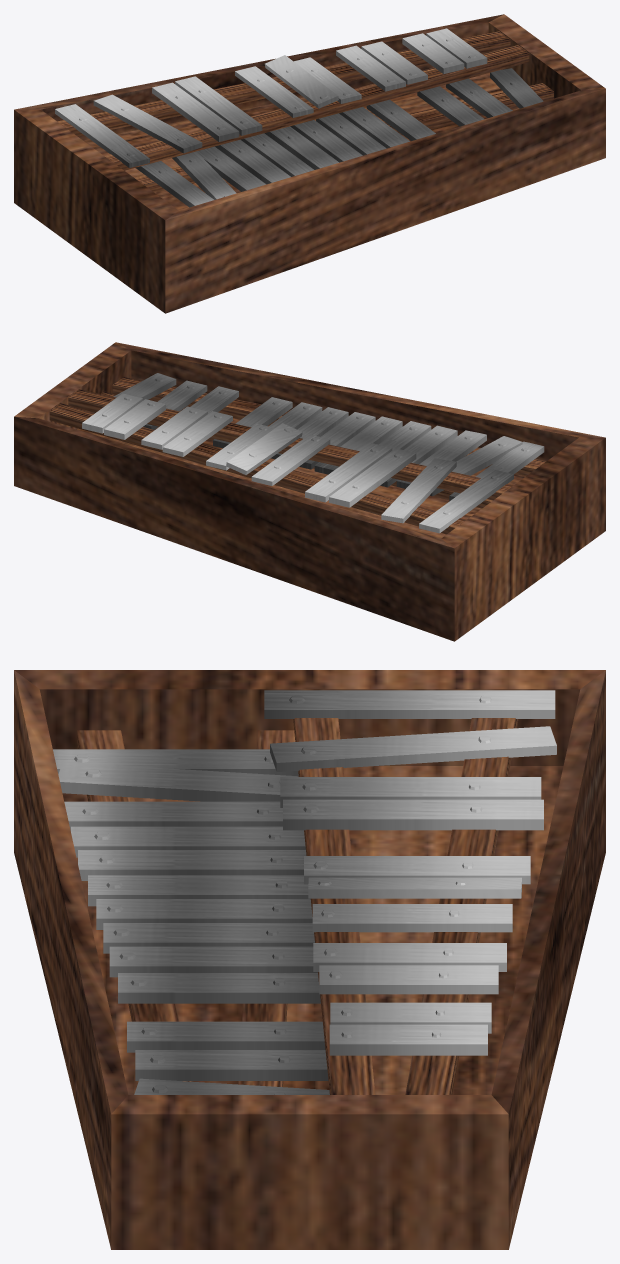
The model's file is Glockenspiel.fbx.
3 views of the same model, one above another, from view 1: azimuth 30°, elevation 25°; view 2: azimuth 150°, elevation 25°; view 3: azimuth 270°, elevation 25° (orthographic). The views are drawn at different scales.
Parts seen in each view (by area): view 1: caixa_glock, A#.001, G#, C#, D#, G#.001, F#, A, Cube.027, D, B, F (+13 smaller); view 2: caixa_glock, G#, C#, A#.001, D#, G#.001, F#, Cube.027, B, F, Cube.029, Cube.028 (+13 smaller); view 3: caixa_glock, G#, A#.001, D#, B, C1, C#, Cube.016, E, Cube.015, A#, C (+13 smaller).
Part boxes in pixels (x1,y1,x2,y2): caixa_glock: (14, 14, 605, 313); A#.001: (93, 94, 202, 153); G#: (55, 104, 149, 167); C#: (152, 82, 239, 141); D#: (175, 76, 262, 135); G#.001: (264, 55, 338, 108); F#: (235, 66, 313, 117); A: (135, 161, 213, 207); Cube.027: (336, 45, 405, 91); D: (215, 139, 290, 184); B: (172, 151, 236, 199); F: (264, 126, 338, 169); caixa_glock: (14, 342, 605, 641); G#: (419, 469, 513, 533); C#: (329, 448, 416, 507); A#.001: (381, 458, 456, 523); D#: (305, 443, 392, 502); G#.001: (226, 423, 302, 474); F#: (251, 434, 330, 485); Cube.027: (162, 411, 232, 456); B: (430, 436, 522, 496); F: (314, 416, 402, 474); Cube.029: (104, 399, 165, 439); Cube.028: (141, 406, 207, 449); caixa_glock: (14, 670, 605, 1249); G#: (264, 690, 555, 718); A#.001: (270, 726, 556, 771); D#: (283, 799, 543, 830); B: (58, 762, 298, 801); C1: (118, 973, 320, 1003); C#: (280, 777, 541, 807); Cube.016: (135, 1050, 328, 1080); E: (78, 850, 306, 880); Cube.015: (127, 1021, 325, 1052); A#: (312, 904, 512, 932); C: (64, 801, 282, 831).
Bounding box in the file's own units: 355 × 75.05 × 200.
Materials: 1 (1 with a texture image).
